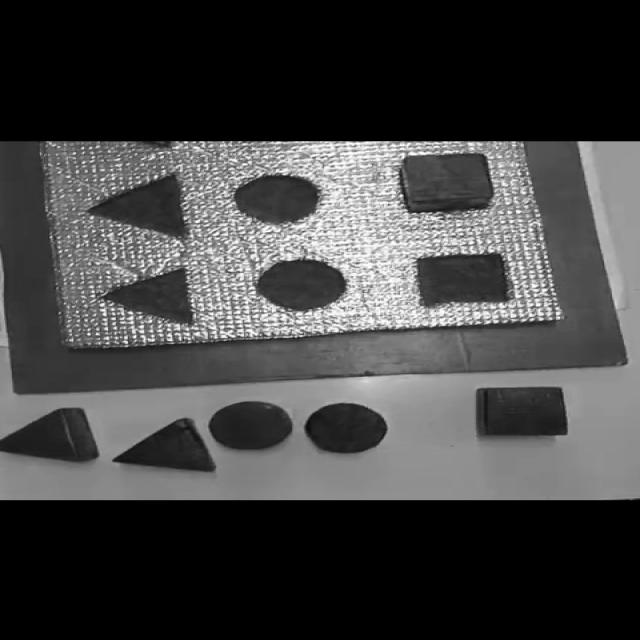bcircle: (305, 403, 389, 453)
bcube: (476, 387, 568, 436)
btriangle: (113, 418, 218, 472)
mtcircle: (256, 258, 349, 309), (231, 174, 323, 225)
mtcube: (414, 252, 511, 305)
mttriangle: (85, 174, 191, 241), (99, 267, 195, 325)
rcircle: (208, 401, 292, 449)
rcube: (400, 152, 496, 214)
rtriangle: (0, 408, 99, 462)
wb: (35, 141, 570, 351)
